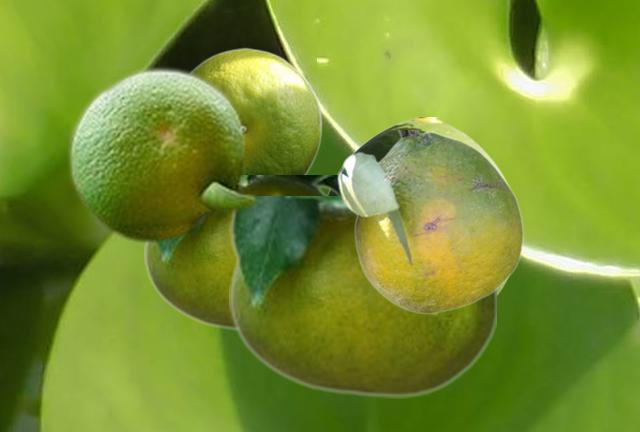dalandan: (229, 196, 495, 397), (66, 64, 259, 243), (336, 130, 523, 313), (327, 117, 507, 297), (144, 175, 338, 332), (192, 47, 321, 174)
